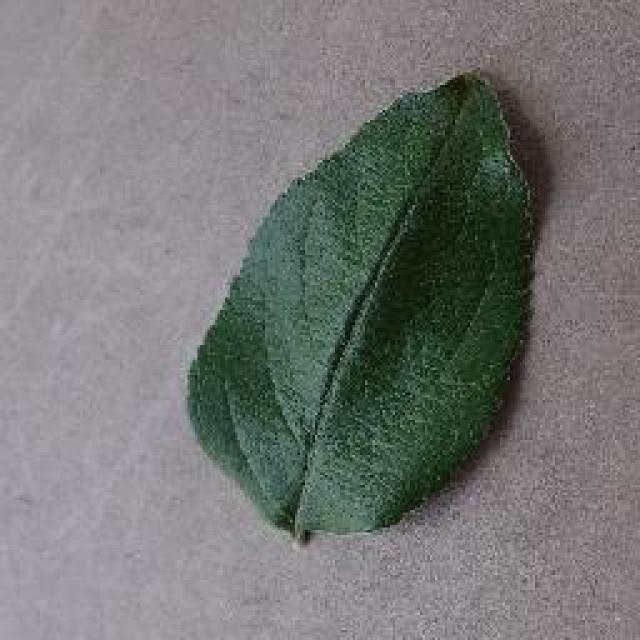apple healthy: (182, 65, 540, 545)
